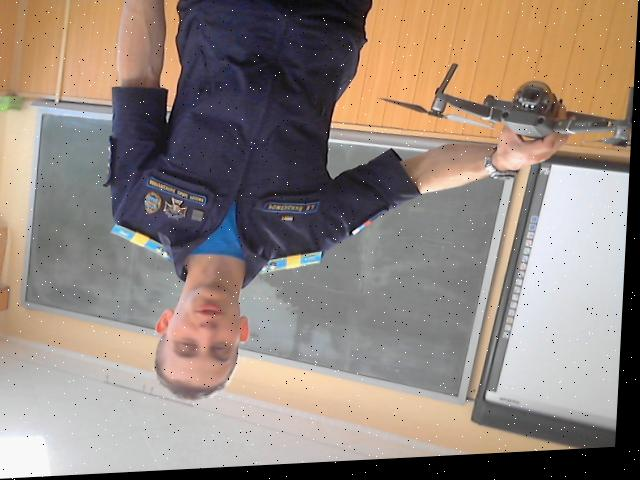drone: (368, 57, 637, 170)
